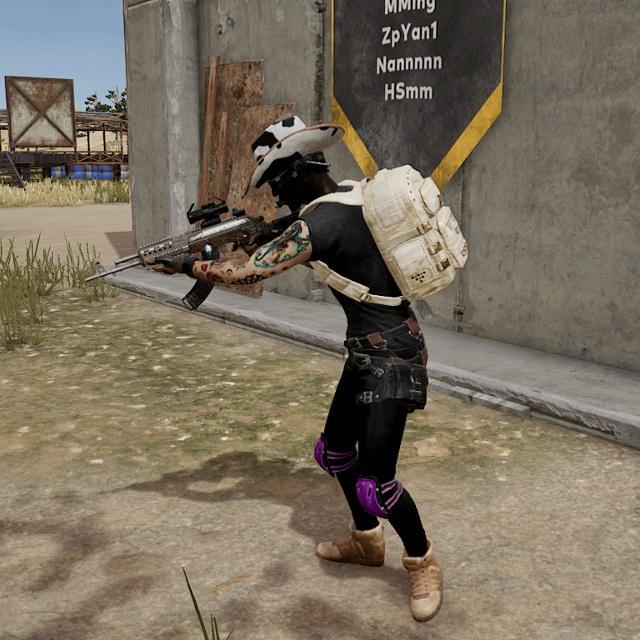head: (254, 120, 336, 212)
people: (231, 115, 454, 626)
